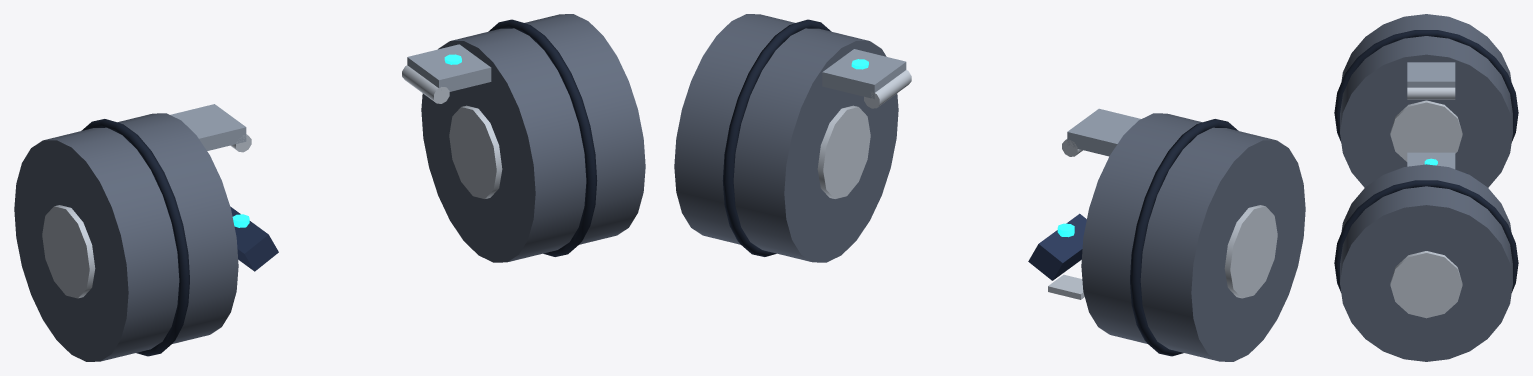
The model's file is tower_skywatch_rate_s4.glb.
The picture shows the model from 3 angles, left to right: view 1: azimuth 30°, elevation 25°; view 2: azimuth 150°, elevation 25°; view 3: azimuth 270°, elevation 25°; orthographic projection. The views are drawn at different scales.
Parts seen in each view (by area): view 1: skywatch_big_drum_r, skywatch_big_drum_l, skywatch_big_drum_cap_l, skywatch_big_drum_cap_r, skywatch_big_drum_rib_l, skywatch_big_drum_rib_r, skywatch_belt_guide_l, skywatch_belt_guide_r, skywatch_eject_chute, skywatch_belt_guide_roller_l; view 2: skywatch_big_drum_r, skywatch_big_drum_l, skywatch_big_drum_cap_l, skywatch_big_drum_cap_r, skywatch_big_drum_rib_l, skywatch_big_drum_rib_r, skywatch_belt_guide_l, skywatch_belt_guide_r, skywatch_eject_chute, skywatch_belt_guide_roller_l, skywatch_eject_lip; view 3: skywatch_big_drum_l, skywatch_big_drum_r, skywatch_big_drum_cap_l, skywatch_big_drum_cap_r, skywatch_big_drum_rib_l, skywatch_big_drum_rib_r, skywatch_belt_guide_r, skywatch_belt_guide_roller_r, skywatch_belt_guide_l.
Part boxes in pixels (left/top/right/bottom): skywatch_big_drum_r: left=14, top=113, right=238, bottom=361; skywatch_big_drum_l: left=421, top=14, right=645, bottom=262; skywatch_big_drum_cap_l: left=449, top=105, right=502, bottom=198; skywatch_big_drum_cap_r: left=42, top=205, right=95, bottom=298; skywatch_big_drum_rib_l: left=488, top=19, right=597, bottom=256; skywatch_big_drum_rib_r: left=81, top=119, right=189, bottom=356; skywatch_belt_guide_l: left=407, top=44, right=491, bottom=91; skywatch_belt_guide_r: left=170, top=104, right=246, bottom=150; skywatch_eject_chute: left=230, top=206, right=278, bottom=271; skywatch_belt_guide_roller_l: left=402, top=65, right=449, bottom=103; skywatch_big_drum_r: left=1081, top=113, right=1305, bottom=361; skywatch_big_drum_l: left=674, top=14, right=898, bottom=262; skywatch_big_drum_cap_l: left=817, top=105, right=870, bottom=198; skywatch_big_drum_cap_r: left=1224, top=205, right=1277, bottom=298; skywatch_big_drum_rib_l: left=722, top=19, right=831, bottom=256; skywatch_big_drum_rib_r: left=1130, top=119, right=1238, bottom=356; skywatch_belt_guide_l: left=822, top=49, right=906, bottom=99; skywatch_belt_guide_r: left=1067, top=108, right=1140, bottom=156; skywatch_eject_chute: left=1028, top=213, right=1086, bottom=280; skywatch_belt_guide_roller_l: left=864, top=70, right=911, bottom=108; skywatch_eject_lip: left=1048, top=274, right=1084, bottom=299; skywatch_big_drum_l: left=1340, top=164, right=1512, bottom=361; skywatch_big_drum_r: left=1340, top=14, right=1512, bottom=187; skywatch_big_drum_cap_l: left=1390, top=251, right=1462, bottom=318; skywatch_big_drum_cap_r: left=1390, top=100, right=1462, bottom=161; skywatch_big_drum_rib_l: left=1334, top=180, right=1518, bottom=292; skywatch_big_drum_rib_r: left=1334, top=30, right=1518, bottom=142; skywatch_belt_guide_r: left=1407, top=62, right=1455, bottom=87; skywatch_belt_guide_roller_r: left=1407, top=87, right=1455, bottom=99; skywatch_belt_guide_l: left=1407, top=152, right=1455, bottom=169.
Size of the model in its own units: 1.92 by 0.7604 by 0.766.
